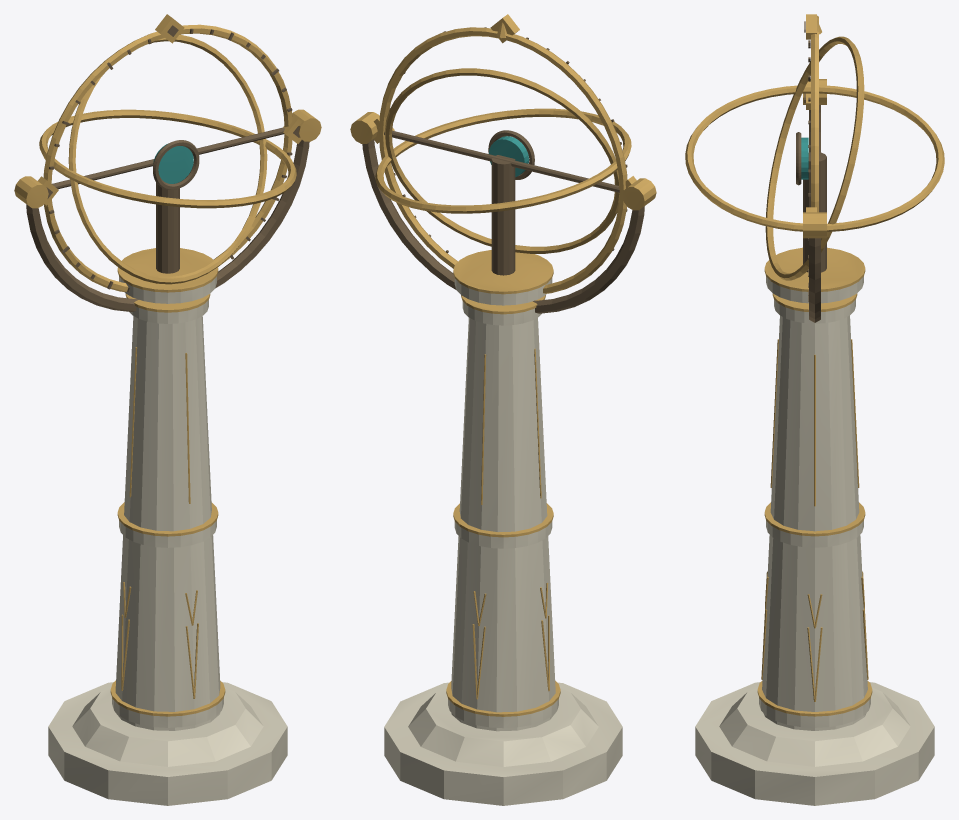
File: observatory-v03.glb
3 views of the same model, side by side, from view 1: azimuth 30°, elevation 25°; view 2: azimuth 150°, elevation 25°; view 3: azimuth 270°, elevation 25° (orthographic).
Parts seen in each view (by area): view 1: Survey limestone, Survey satin brass, Survey dark bronze, survey_ring, Survey teal lens; view 2: Survey limestone, Survey satin brass, Survey dark bronze, survey_ring, Survey teal lens; view 3: Survey limestone, Survey satin brass, survey_ring, Survey dark bronze.
Part boxes in pixels (x1,y1,x2,y2): Survey limestone: [48, 276, 287, 805]; Survey satin brass: [14, 14, 321, 716]; Survey dark bronze: [26, 25, 309, 311]; survey_ring: [68, 34, 267, 284]; Survey teal lens: [153, 144, 193, 183]; Survey limestone: [384, 278, 622, 805]; Survey satin brass: [350, 14, 656, 716]; Survey dark bronze: [362, 27, 644, 313]; survey_ring: [384, 68, 619, 253]; Survey teal lens: [488, 136, 529, 177]; Survey limestone: [695, 276, 934, 805]; Survey satin brass: [685, 14, 944, 716]; survey_ring: [765, 36, 864, 280]; Survey dark bronze: [796, 21, 826, 322].
Bounding box in the file's own units: 1.71 × 4.1 × 1.3.
